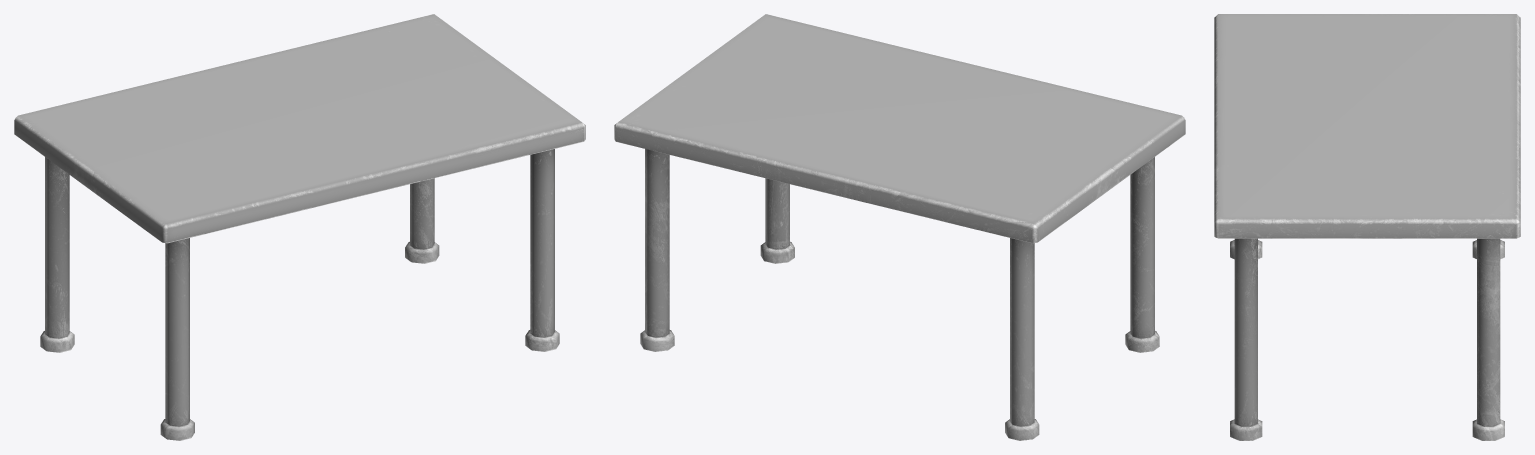
File: Table.fbx
3 renders of one model, left to right at view 1: azimuth 30°, elevation 25°; view 2: azimuth 150°, elevation 25°; view 3: azimuth 270°, elevation 25°, orthographic.
Visible parts, largest first — view 1: table; view 2: table; view 3: table.
Part boxes in pixels (bbox=[...]): table: bbox=[14, 14, 585, 440]; table: bbox=[614, 14, 1185, 440]; table: bbox=[1214, 14, 1520, 440].
Size of the model in its own units: 16.24 by 8.3 by 10.1.
Materials: 1 (1 with a texture image).
